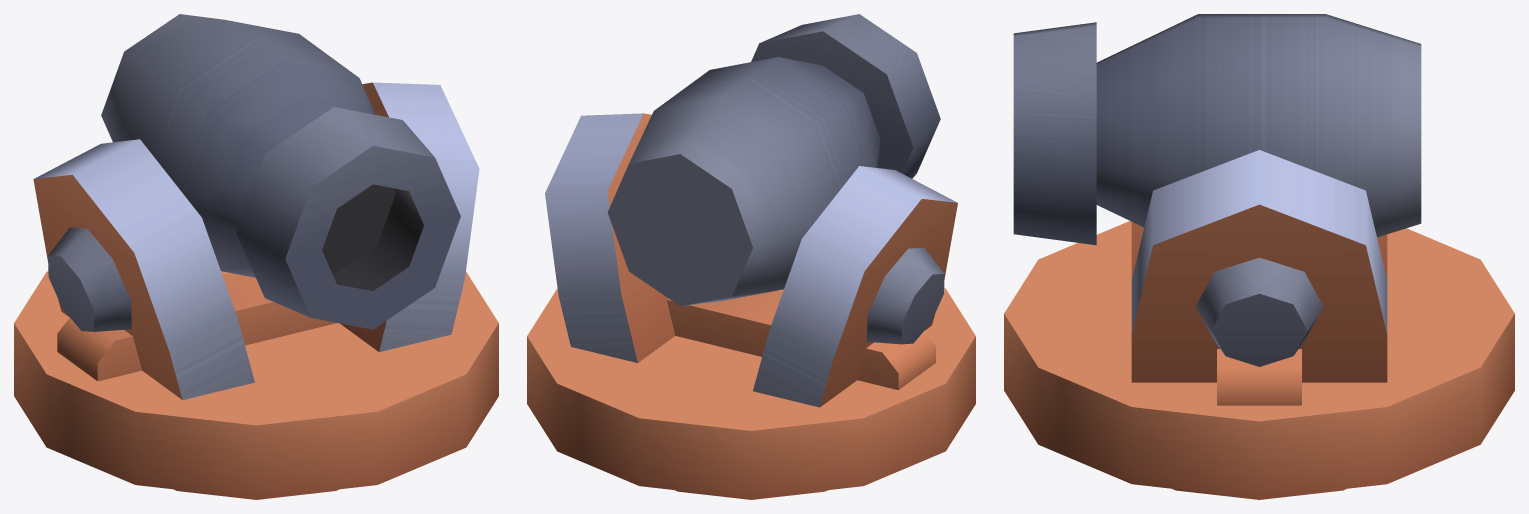
File: p-tower-weapon-cannon.glb
The picture shows the model from 3 angles, left to right: view 1: azimuth 30°, elevation 25°; view 2: azimuth 150°, elevation 25°; view 3: azimuth 270°, elevation 25°; orthographic projection. The views are drawn at different scales.
Visible parts, largest first — view 1: weapon-cannon, barrel; view 2: weapon-cannon, barrel; view 3: weapon-cannon, barrel.
Part boxes in pixels (x1,y1,x2,y2): weapon-cannon: [14, 82, 498, 499]; barrel: [101, 14, 460, 329]; weapon-cannon: [527, 113, 975, 499]; barrel: [607, 14, 940, 306]; weapon-cannon: [1004, 150, 1514, 499]; barrel: [1013, 14, 1421, 245].
Size of the model in its own units: 0.6 by 0.5328 by 0.6.
Materials: 1 (1 with a texture image).
